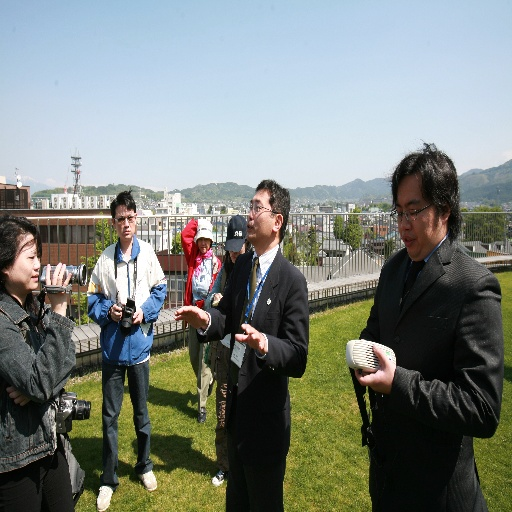hand: (354, 342, 395, 396), (177, 302, 216, 347), (45, 260, 71, 310), (233, 321, 267, 356), (5, 385, 32, 406), (108, 302, 122, 323), (132, 306, 143, 325), (212, 290, 222, 306)
